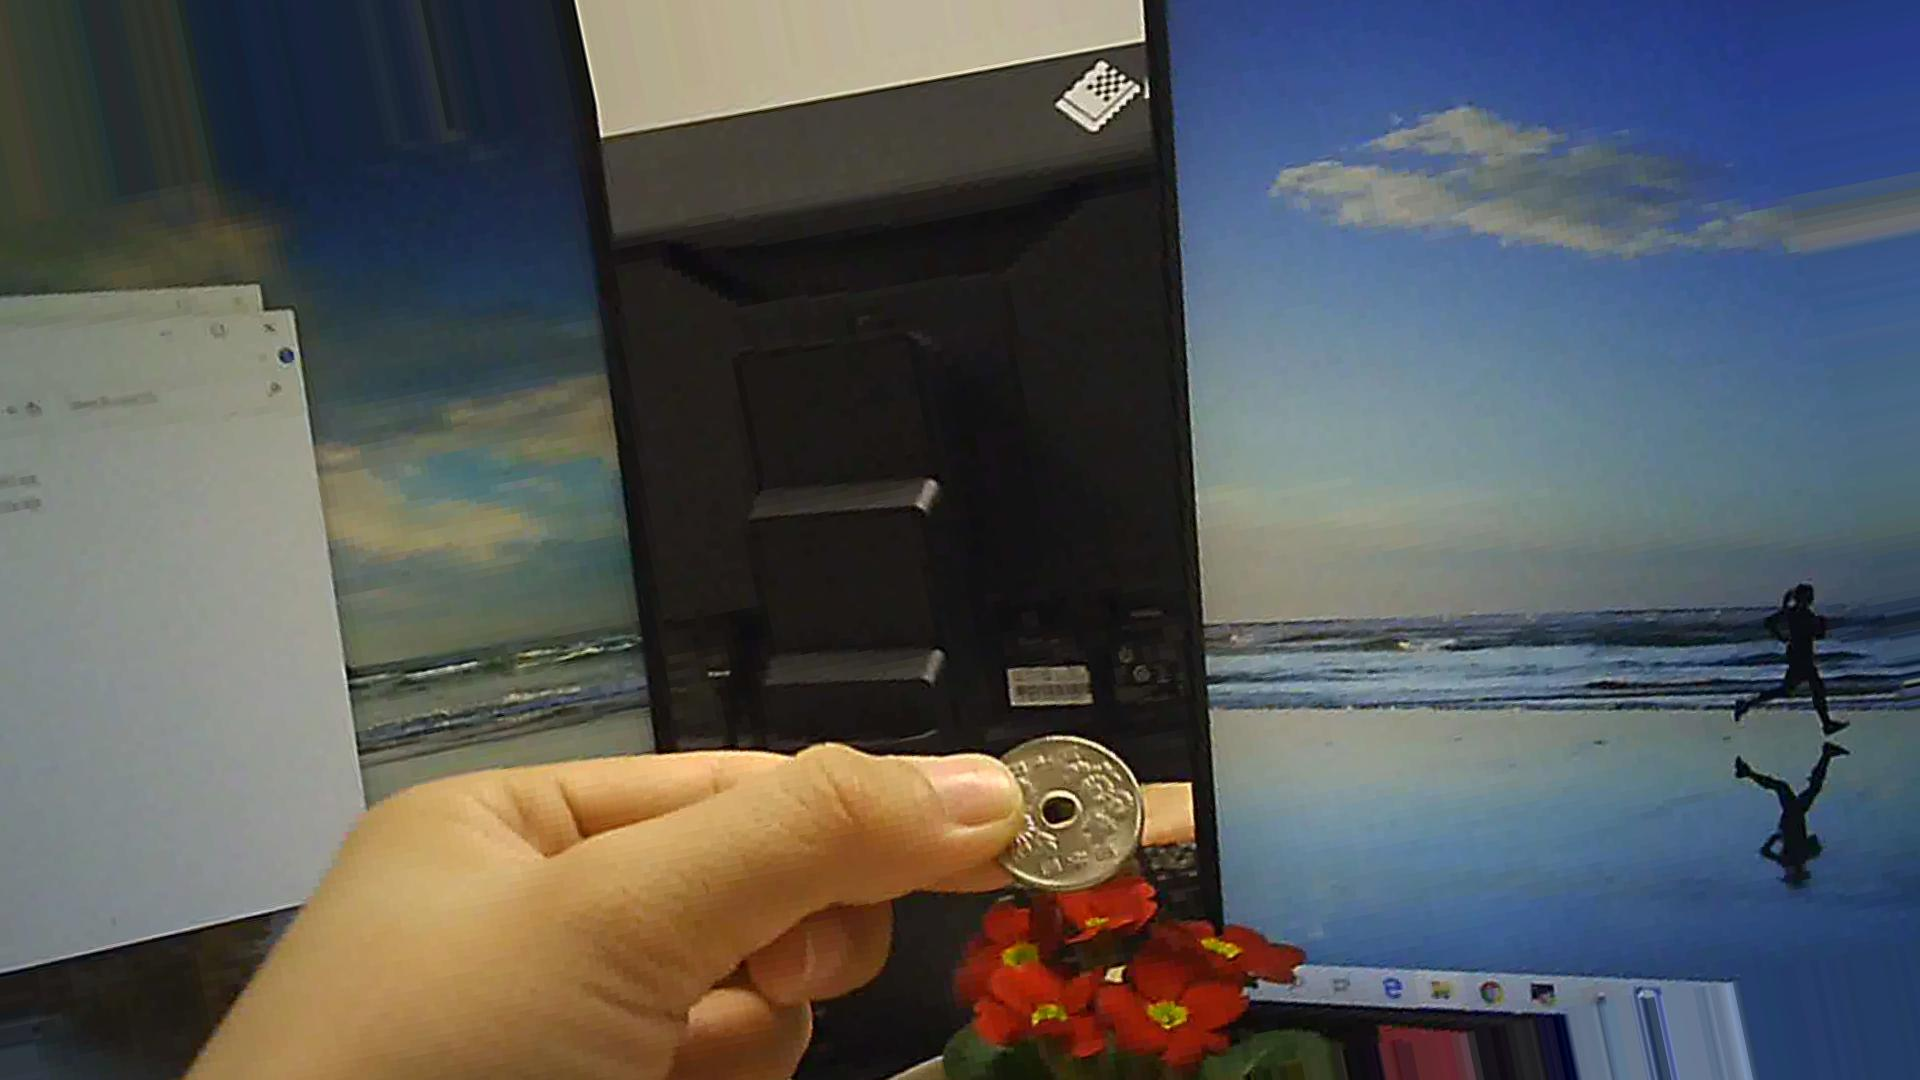50 Yen: (964, 711, 1155, 894)
